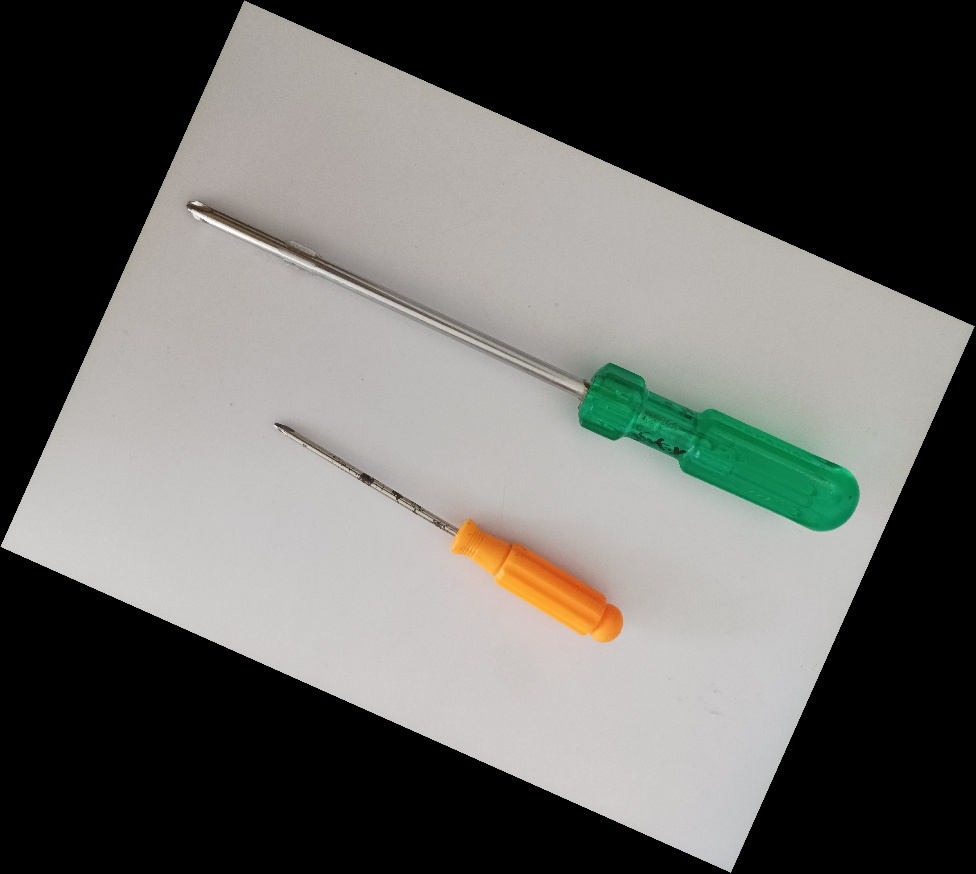screwdriver: (176, 191, 863, 540), (266, 413, 647, 649)
